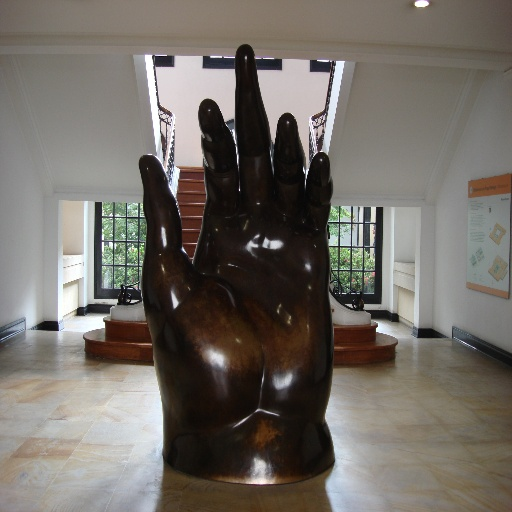hand: (132, 44, 345, 482)
